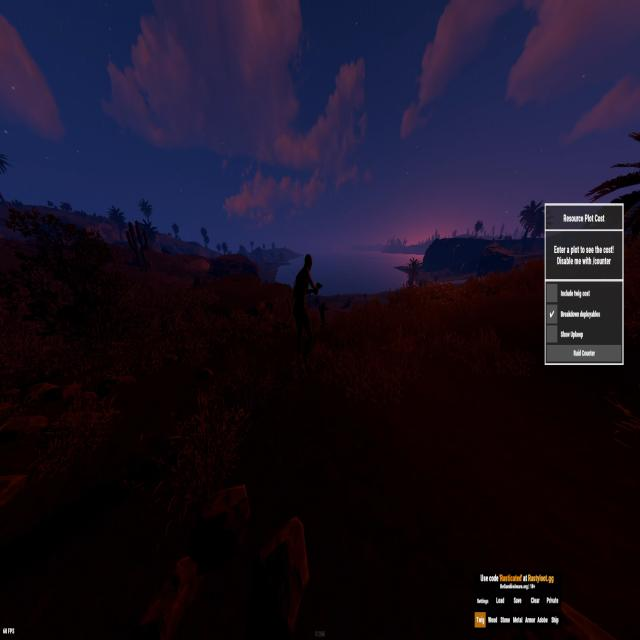Player: (292, 254, 318, 354), (319, 300, 327, 328)
